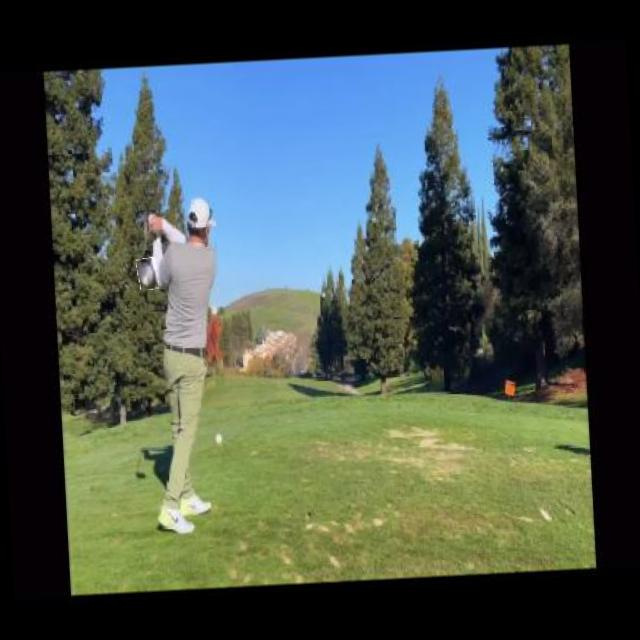club head: (136, 257, 158, 290)
